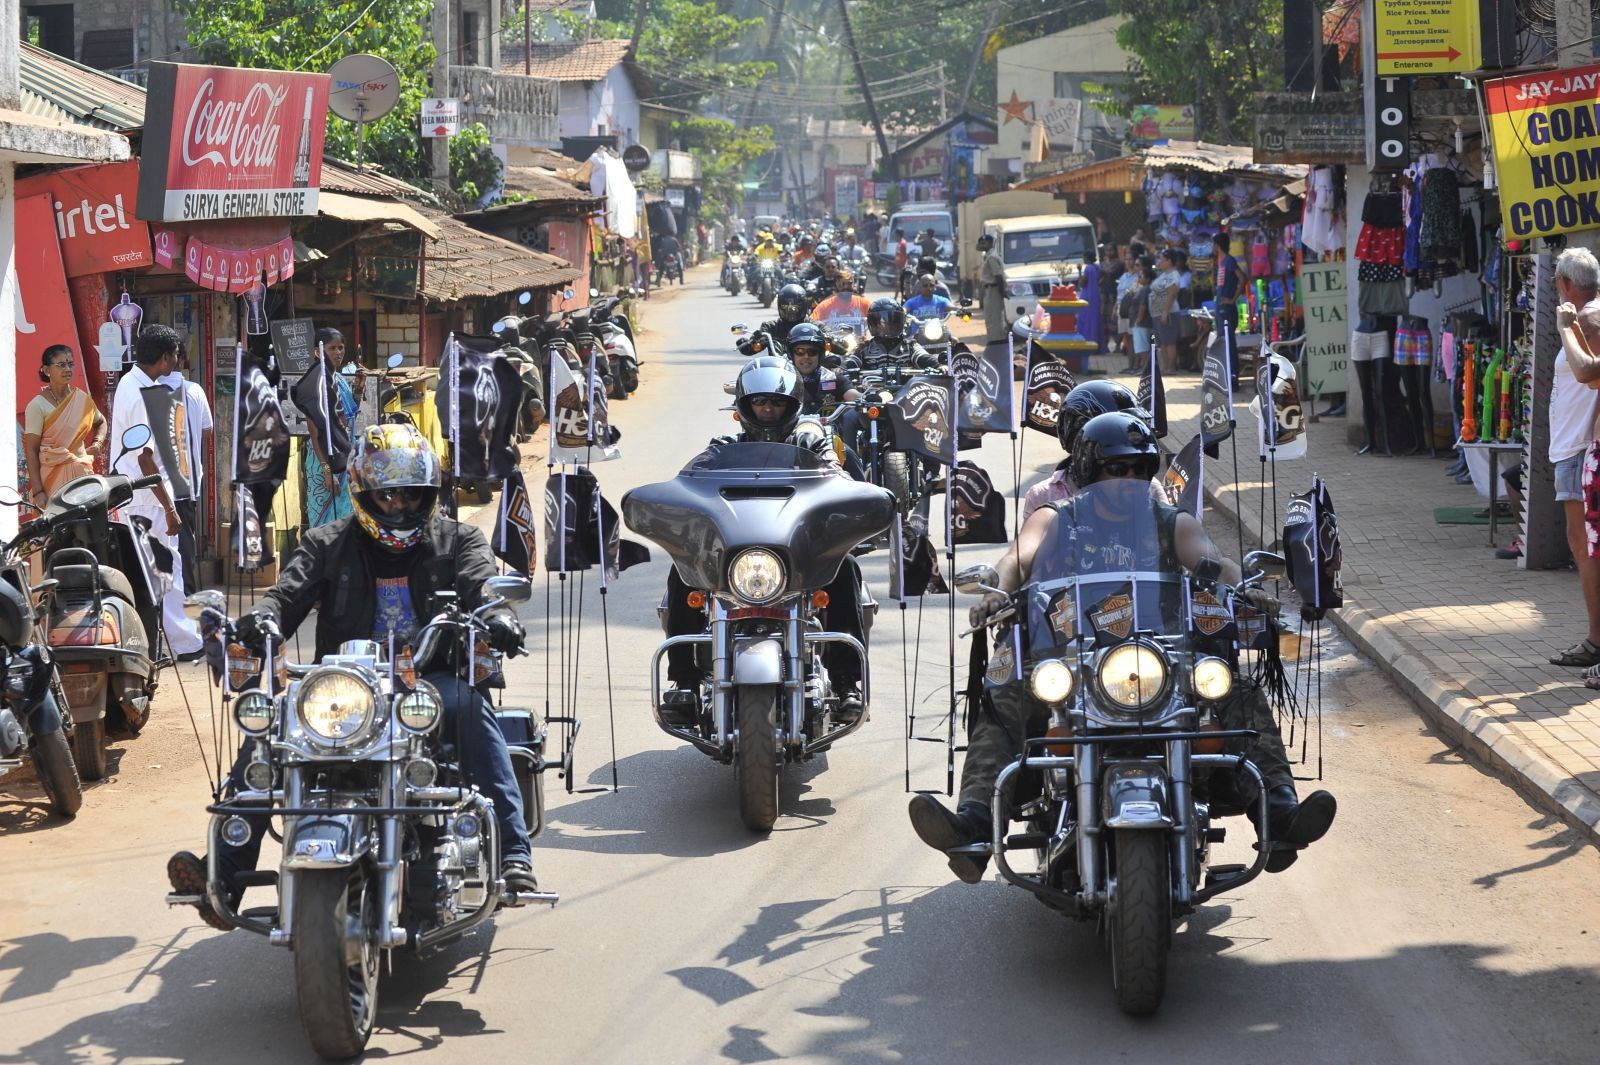helmet: (338, 414, 452, 536), (732, 349, 807, 445), (1072, 407, 1164, 477), (763, 267, 815, 319), (861, 294, 914, 344), (250, 43, 271, 58)
